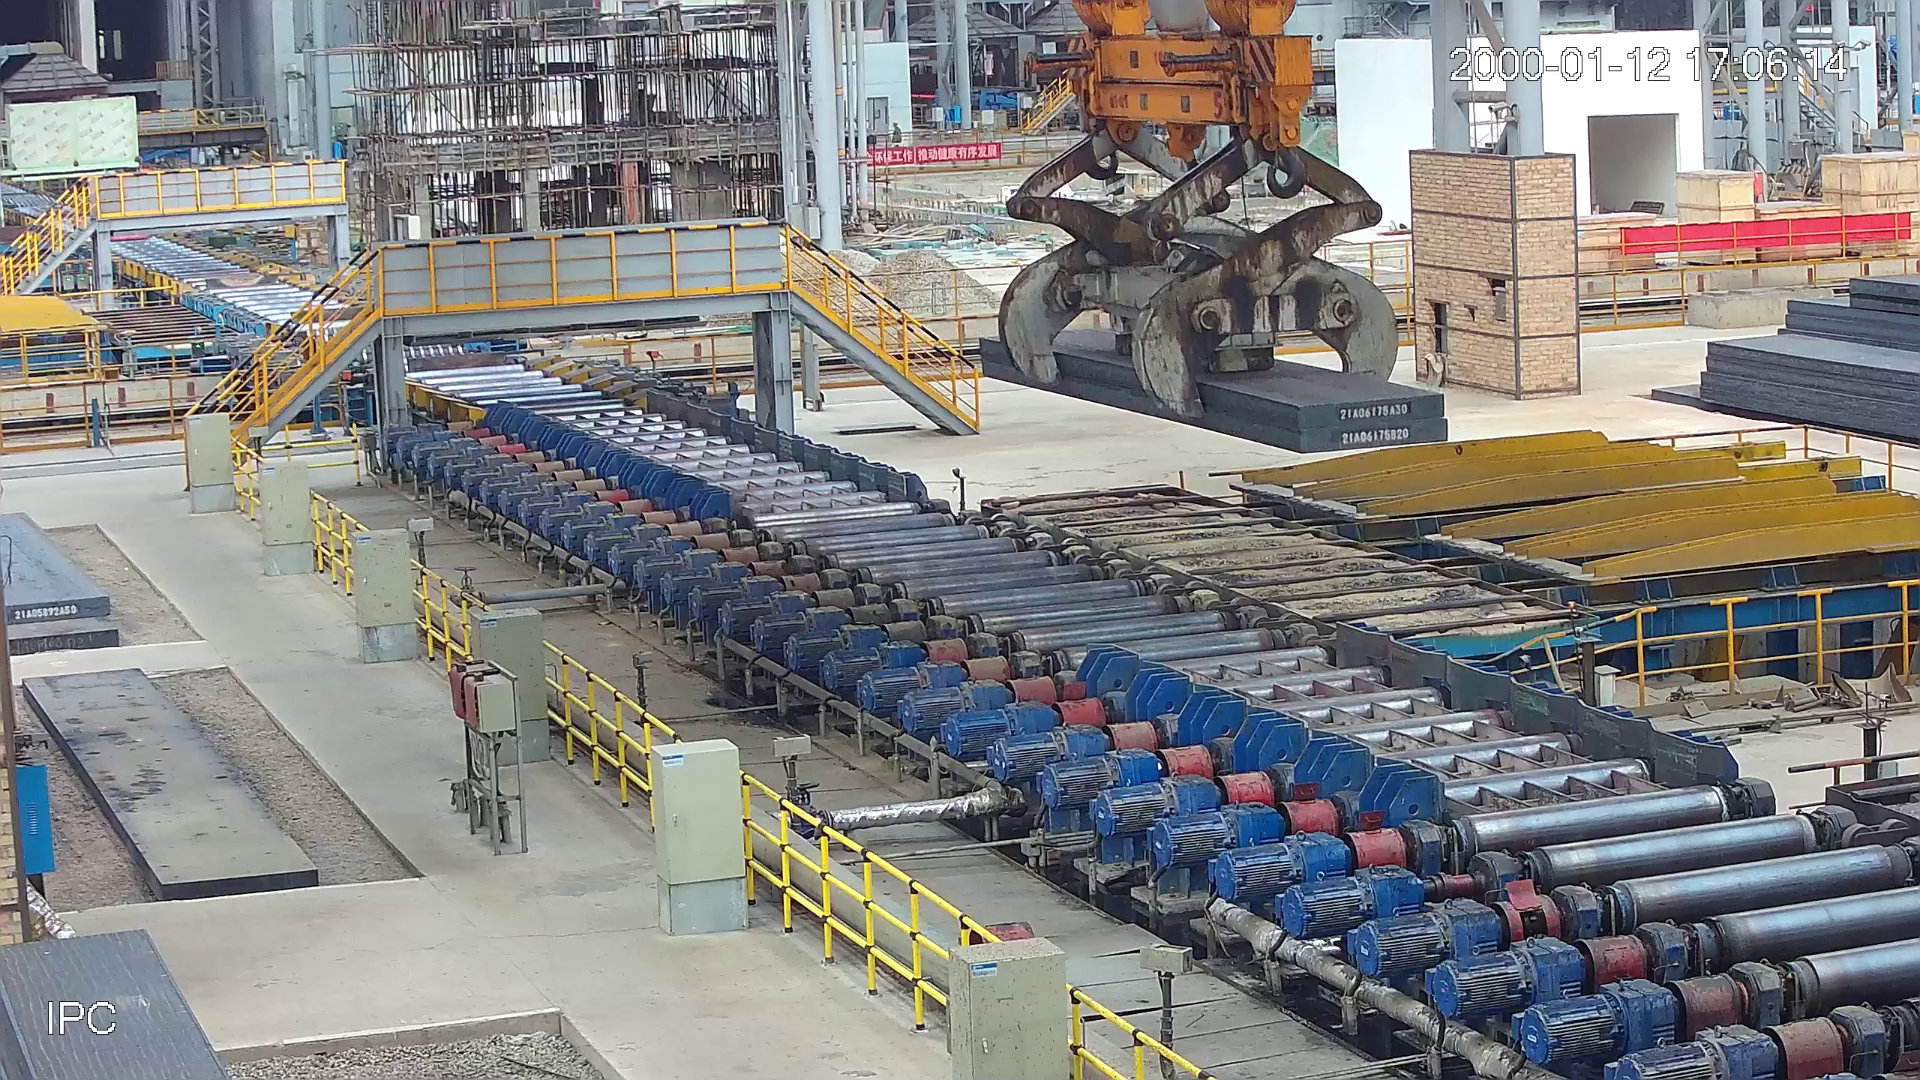craneandslab: (978, 1, 1449, 450)
